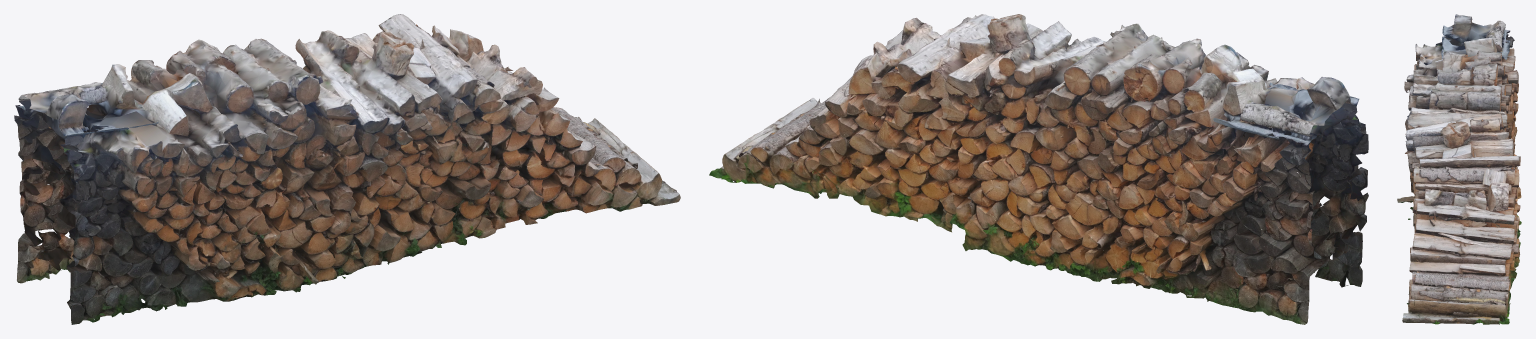
Rendered from sf-firewood-3-4ce601.glb.
3 views of the same model, side by side, from view 1: azimuth 30°, elevation 25°; view 2: azimuth 150°, elevation 25°; view 3: azimuth 270°, elevation 25° (orthographic). The views are drawn at different scales.
Parts seen in each view (by area): view 1: dd3_dd3_u1_v1_0, dd3_dd3_u2_v1_0; view 2: dd3_dd3_u1_v1_0, dd3_dd3_u2_v1_0; view 3: dd3_dd3_u1_v1_0, dd3_dd3_u2_v1_0.
Boxes of the visible parts, box(x1,y1,x2,y2) form: dd3_dd3_u1_v1_0: box(14, 14, 679, 324); dd3_dd3_u2_v1_0: box(15, 25, 680, 322); dd3_dd3_u1_v1_0: box(709, 14, 1368, 324); dd3_dd3_u2_v1_0: box(710, 14, 1367, 324); dd3_dd3_u1_v1_0: box(1397, 15, 1521, 324); dd3_dd3_u2_v1_0: box(1397, 14, 1521, 324).
Size of the model in its own units: 5.28 by 1.83 by 1.5.
Materials: 2 (2 with a texture image).
